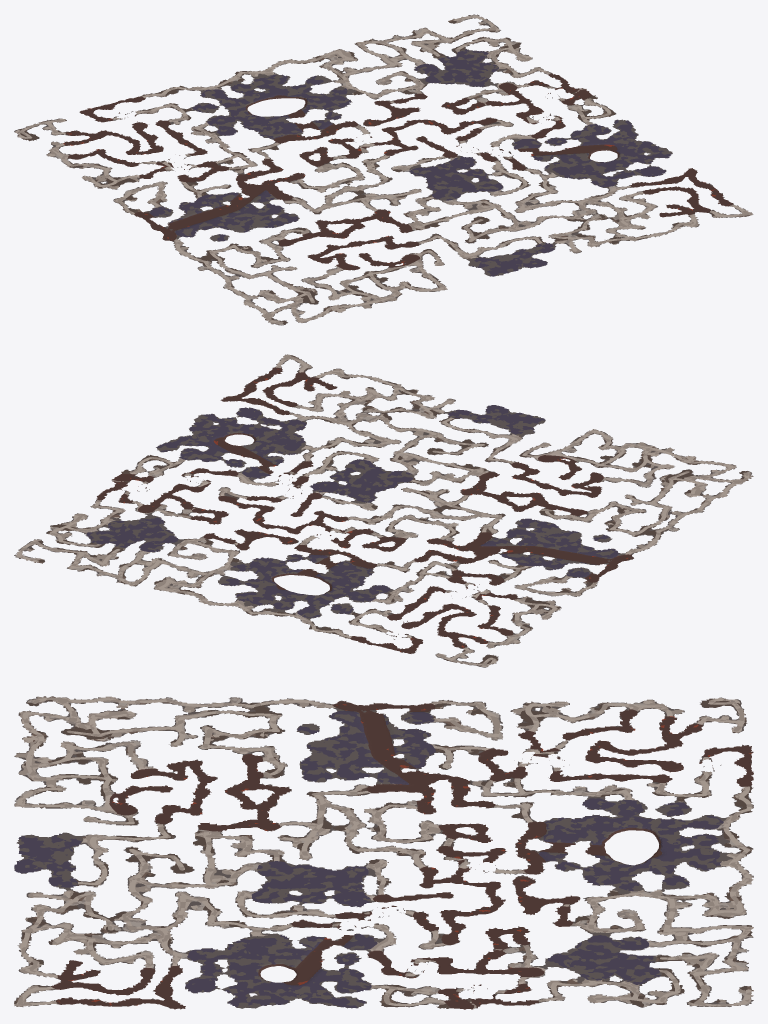
The model's file is Dungeon-3C-Ground.fbx.
3 views of the same model, one above another, from view 1: azimuth 30°, elevation 25°; view 2: azimuth 150°, elevation 25°; view 3: azimuth 270°, elevation 25° (orthographic). The views are drawn at different scales.
Visible parts, largest first — view 1: Dungeon-3C-Ground-c13, Dungeon-3C-Ground-c66, Dungeon-3C-Ground-c62, Dungeon-3C-Ground-c73, Dungeon-3C-Ground-c37, Dungeon-3C-Ground-c43, Dungeon-3C-Ground-c72, Dungeon-3C-Ground-c63, Dungeon-3C-Ground-c14, Dungeon-3C-Ground-c46, Dungeon-3C-Ground-c36, Dungeon-3C-Ground-c42 (+52 smaller); view 2: Dungeon-3C-Ground-c13, Dungeon-3C-Ground-c66, Dungeon-3C-Ground-c62, Dungeon-3C-Ground-c72, Dungeon-3C-Ground-c43, Dungeon-3C-Ground-c37, Dungeon-3C-Ground-c73, Dungeon-3C-Ground-c63, Dungeon-3C-Ground-c46, Dungeon-3C-Ground-c24, Dungeon-3C-Ground-c36, Dungeon-3C-Ground-c42 (+52 smaller); view 3: Dungeon-3C-Ground-c13, Dungeon-3C-Ground-c66, Dungeon-3C-Ground-c62, Dungeon-3C-Ground-c43, Dungeon-3C-Ground-c37, Dungeon-3C-Ground-c73, Dungeon-3C-Ground-c63, Dungeon-3C-Ground-c72, Dungeon-3C-Ground-c36, Dungeon-3C-Ground-c14, Dungeon-3C-Ground-c42, Dungeon-3C-Ground-c24 (+52 smaller).
Boxes of the visible parts, x1=… form: Dungeon-3C-Ground-c13: x1=200, y1=200, x2=290, y2=235; Dungeon-3C-Ground-c66: x1=397, y1=50, x2=491, y2=86; Dungeon-3C-Ground-c62: x1=544, y1=154, x2=629, y2=185; Dungeon-3C-Ground-c73: x1=562, y1=114, x2=641, y2=152; Dungeon-3C-Ground-c37: x1=186, y1=71, x2=276, y2=109; Dungeon-3C-Ground-c43: x1=390, y1=156, x2=472, y2=194; Dungeon-3C-Ground-c72: x1=607, y1=141, x2=672, y2=176; Dungeon-3C-Ground-c63: x1=511, y1=127, x2=593, y2=163; Dungeon-3C-Ground-c14: x1=182, y1=182, x2=259, y2=215; Dungeon-3C-Ground-c46: x1=277, y1=80, x2=355, y2=116; Dungeon-3C-Ground-c36: x1=216, y1=95, x2=304, y2=132; Dungeon-3C-Ground-c42: x1=418, y1=182, x2=502, y2=220; Dungeon-3C-Ground-c13: x1=505, y1=520, x2=593, y2=557; Dungeon-3C-Ground-c66: x1=99, y1=520, x2=187, y2=559; Dungeon-3C-Ground-c62: x1=246, y1=418, x2=312, y2=455; Dungeon-3C-Ground-c72: x1=189, y1=409, x2=271, y2=440; Dungeon-3C-Ground-c43: x1=325, y1=473, x2=415, y2=510; Dungeon-3C-Ground-c37: x1=247, y1=590, x2=339, y2=626; Dungeon-3C-Ground-c73: x1=150, y1=432, x2=235, y2=468; Dungeon-3C-Ground-c63: x1=203, y1=445, x2=284, y2=480; Dungeon-3C-Ground-c46: x1=220, y1=557, x2=308, y2=589; Dungeon-3C-Ground-c24: x1=422, y1=528, x2=504, y2=565; Dungeon-3C-Ground-c36: x1=280, y1=567, x2=366, y2=604; Dungeon-3C-Ground-c42: x1=360, y1=449, x2=452, y2=485; Dungeon-3C-Ground-c13: x1=299, y1=734, x2=384, y2=774; Dungeon-3C-Ground-c66: x1=569, y1=931, x2=664, y2=971; Dungeon-3C-Ground-c62: x1=197, y1=931, x2=292, y2=971; Dungeon-3C-Ground-c43: x1=289, y1=852, x2=384, y2=892; Dungeon-3C-Ground-c37: x1=662, y1=812, x2=753, y2=853; Dungeon-3C-Ground-c73: x1=289, y1=970, x2=384, y2=1008; Dungeon-3C-Ground-c63: x1=289, y1=933, x2=384, y2=972; Dungeon-3C-Ground-c72: x1=197, y1=970, x2=291, y2=1008; Dungeon-3C-Ground-c36: x1=570, y1=813, x2=664, y2=853; Dungeon-3C-Ground-c14: x1=383, y1=734, x2=478, y2=774; Dungeon-3C-Ground-c42: x1=197, y1=852, x2=292, y2=892; Dungeon-3C-Ground-c24: x1=383, y1=773, x2=478, y2=814.
Size of the model in its own units: 131 by 0.9306 by 131.
